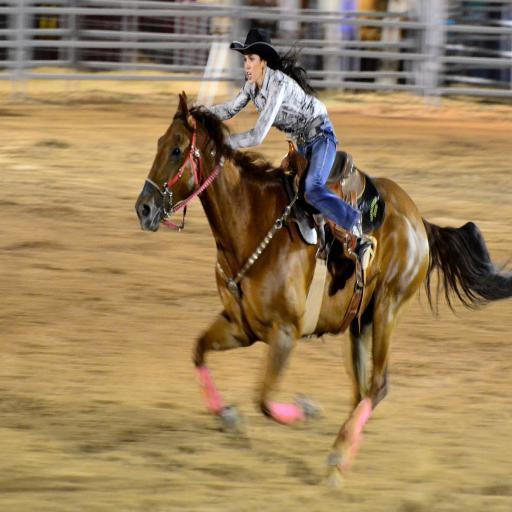horse: (134, 90, 512, 488)
